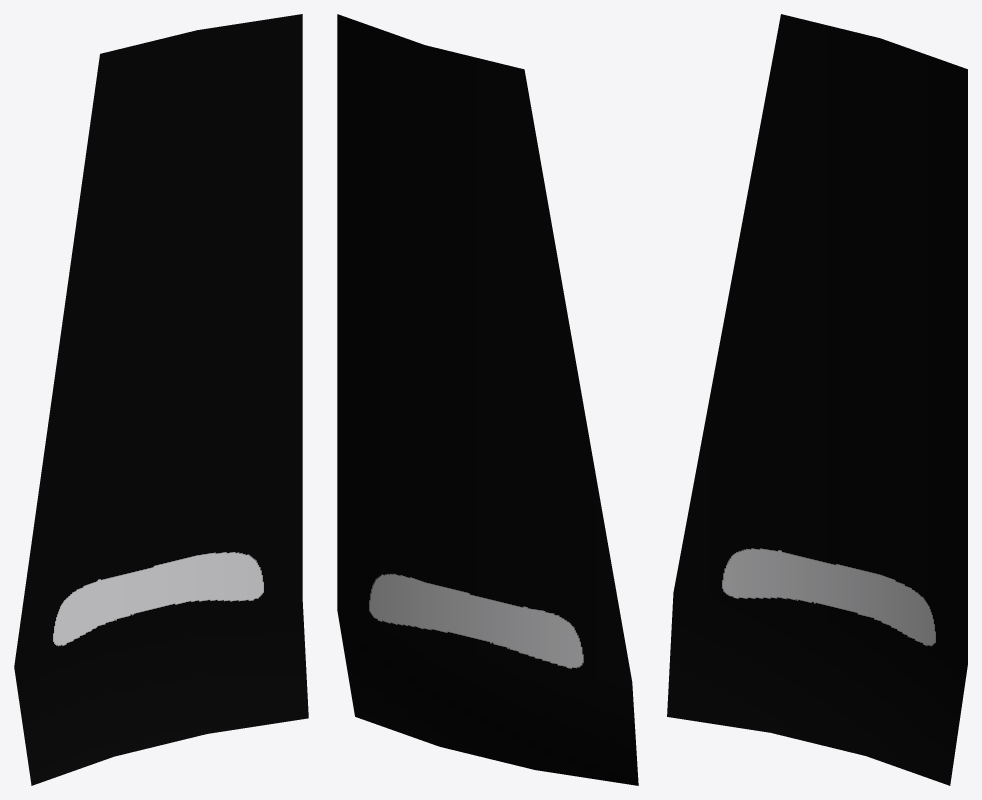
Rendered from 04-Dizzy-Face-Recolorable-mouth.glb.
The picture shows the model from 3 angles, left to right: view 1: azimuth 30°, elevation 25°; view 2: azimuth 150°, elevation 25°; view 3: azimuth 330°, elevation 25°; orthographic projection. The views are drawn at different scales.
Parts seen in each view (by area): view 1: 04-Dizzy-Face-Recolorable-mouth; view 2: 04-Dizzy-Face-Recolorable-mouth; view 3: 04-Dizzy-Face-Recolorable-mouth.
Boxes of the visible parts, box(x1,y1,x2,y2) form: 04-Dizzy-Face-Recolorable-mouth: box(14, 14, 308, 785); 04-Dizzy-Face-Recolorable-mouth: box(337, 14, 638, 785); 04-Dizzy-Face-Recolorable-mouth: box(667, 14, 967, 785).
Size of the model in its own units: 0.3113 by 0.7163 by 0.0403.
Materials: 1 (1 with a texture image).
